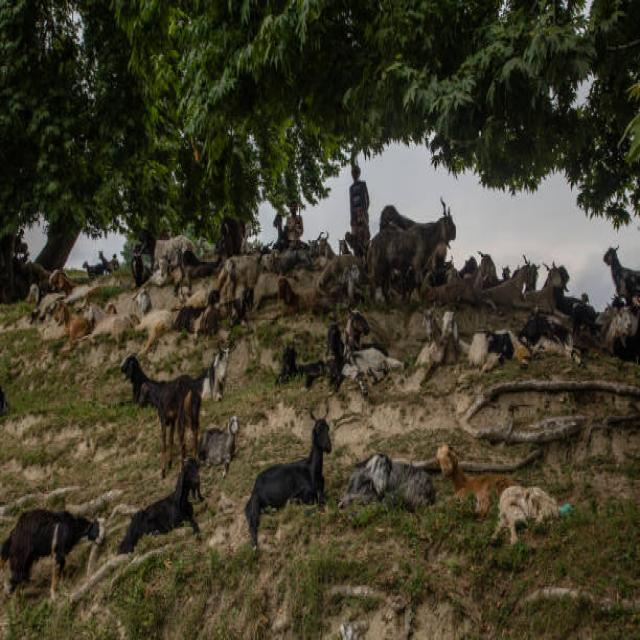civilian: (350, 168, 369, 257), (288, 205, 303, 240)
